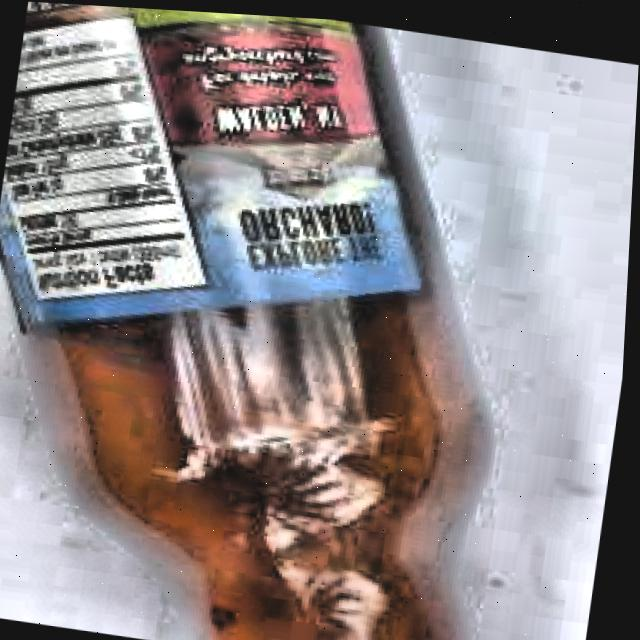glass: (0, 1, 496, 640)
